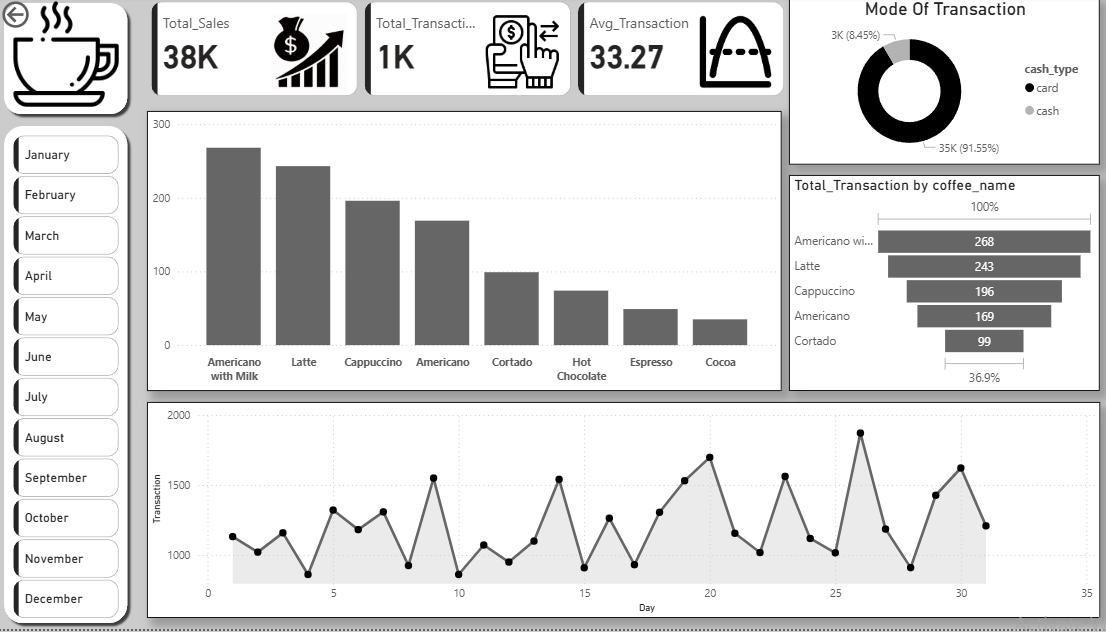

Layout of this report page (visuals, bound fields, positions):
{"tool":"powerbi","page":{"name":"Page 1","canvas":[1280,720],"ordinal":0},"visuals":[{"type":"shape","box":[0,0,154.3,140.2],"z":0},{"type":"image","box":[12.7,0,130,130],"z":1000},{"type":"shape","box":[0,140.2,154.3,580.1],"z":2000},{"type":"advancedSlicerVisual","fields":{"Values":["index.date.Variation.Date Hierarchy.Month"]},"box":[12.7,153,130,567.3],"z":3000},{"type":"actionButton","box":[0,0,100,40],"z":4000},{"type":"cardVisual","fields":{"Data":["index.Total","index.Total_Transaction","index.Average_Transaction"]},"box":[169.6,0,731.8,118.6],"z":4001},{"type":"columnChart","fields":{"Category":["index.coffee_name"],"Y":["index.Total_Transaction"]},"box":[169.6,130,722.9,318.7],"z":4002},{"type":"donutChart","title":"Mode Of Transaction","fields":{"Category":["index.cash_type"],"Y":["index.Total"]},"box":[901.4,0,354.4,191.2],"z":4003},{"type":"funnel","fields":{"Y":["index.Total_Transaction"],"Category":["index.coffee_name"]},"box":[901.4,202.7,354.4,246.1],"z":4004},{"type":"lineChart","fields":{"Category":["index.date.Variation.Date Hierarchy.Day"],"Y":["index.Total"]},"box":[169.6,461.5,1086.2,246.1],"z":4005}]}

Visuals, with their boxes in screenshot pixels (x1, y1, x2, y2), scaled from the page's 1280x720 canvas onto the 1106x632 screenshot:
shape: 0 0 133 123
image: 11 0 123 114
shape: 0 123 133 631
advancedSlicerVisual - index.date.Variation.Date Hierarchy.Month: 11 134 123 631
actionButton: 0 0 86 35
cardVisual - index.Total x index.Total_Transaction: 147 0 779 104
columnChart - index.coffee_name x index.Total_Transaction: 147 114 771 394
"Mode Of Transaction" donutChart: 779 0 1085 168
funnel - index.Total_Transaction x index.coffee_name: 779 178 1085 394
lineChart - index.date.Variation.Date Hierarchy.Day x index.Total: 147 405 1085 621
